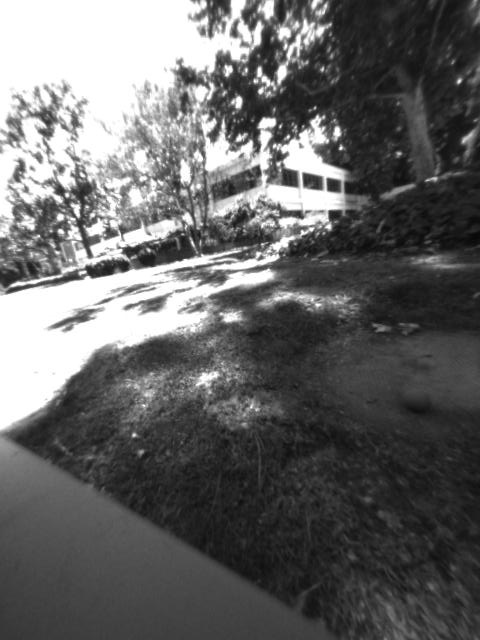dogtoy: (393, 377, 443, 422)
